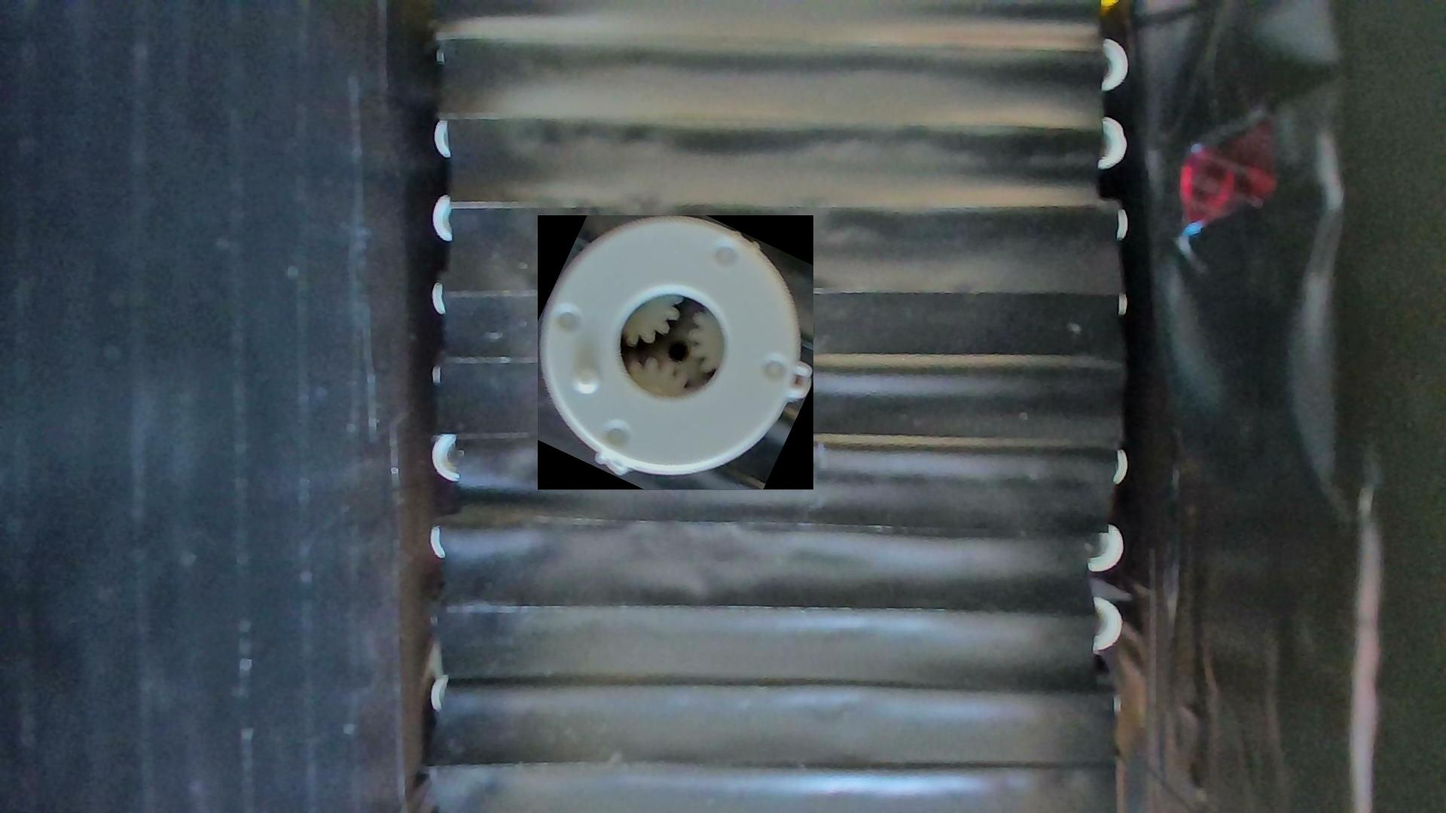cartridge: (538, 216, 813, 491)
